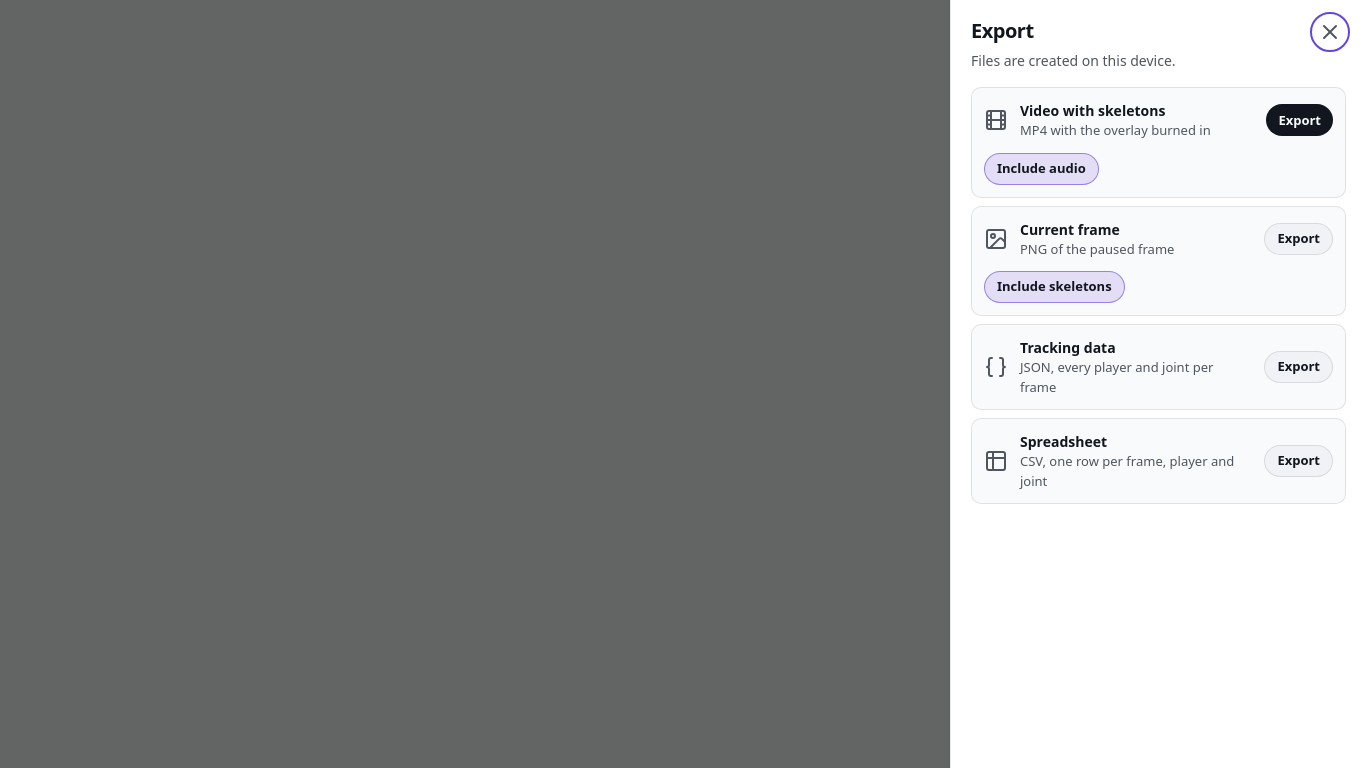
Scenario: Export cancel (UI/UX 4) › offers Cancel while a video export runs; it aborts the export without showing an error
The image size is (1366, 768).
Click the button with aria-label "Export Video with skeletons" at (1300, 120), box [1266,104,1333,136]
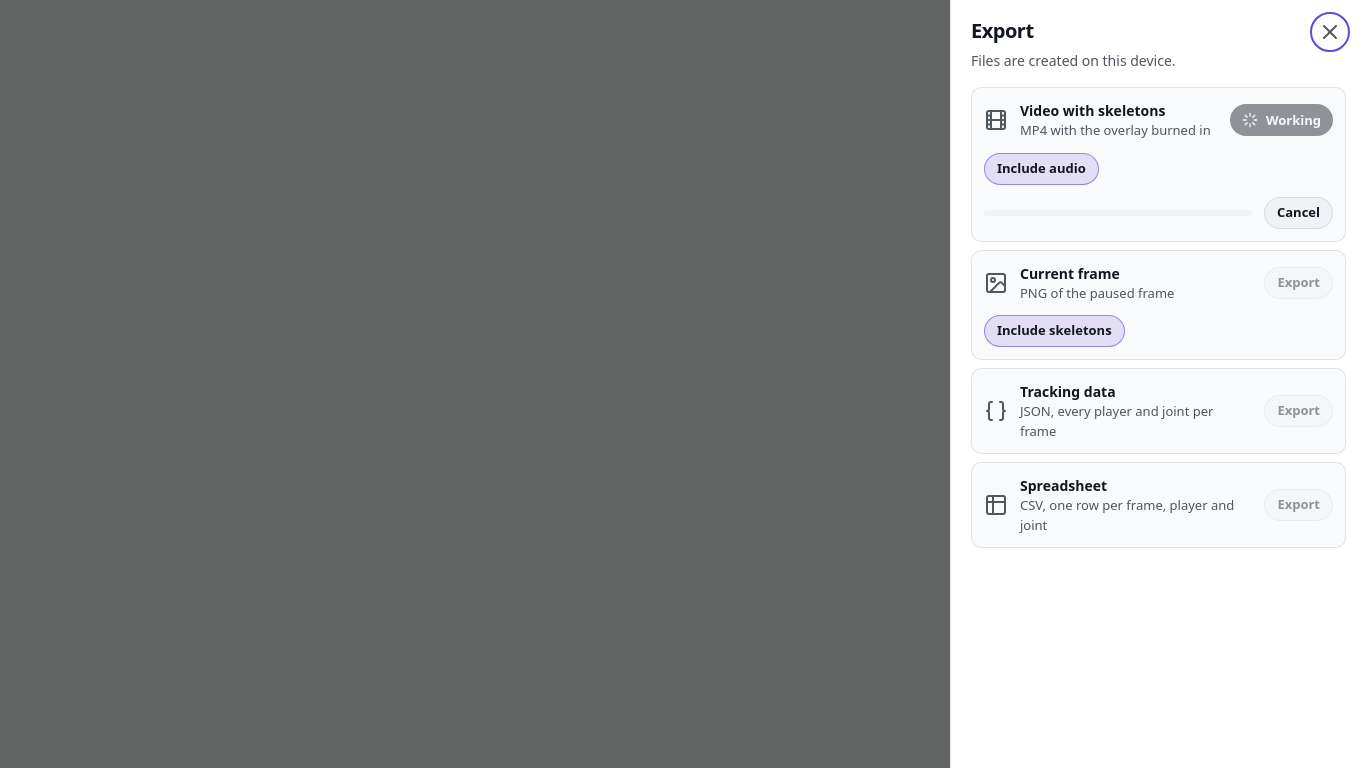
Click the button with test id "export-cancel" at (1298, 212), box [1264,196,1333,228]
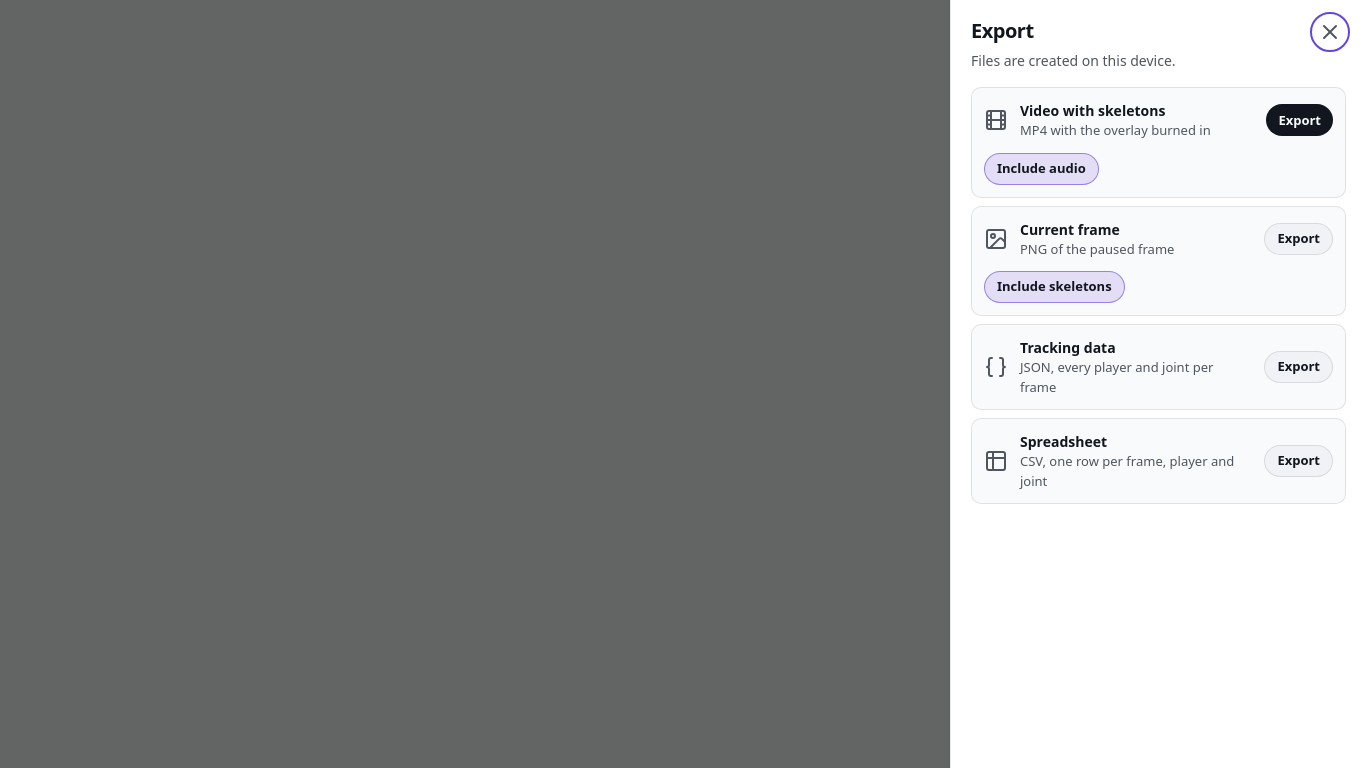
Result: the button with test id "export-cancel" is gone
Result: the button with aria-label "Export Tracking data" is enabled at [1264,351,1333,383]
